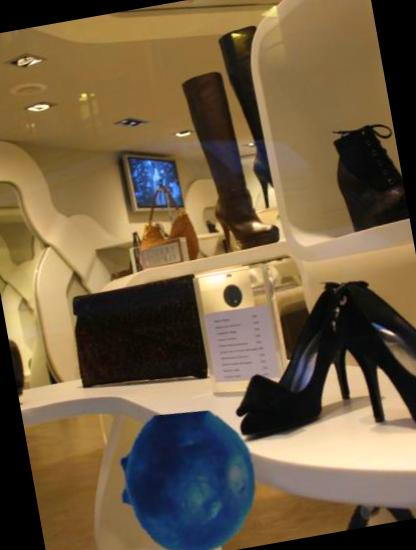Huckleberry: (104, 400, 271, 550)
